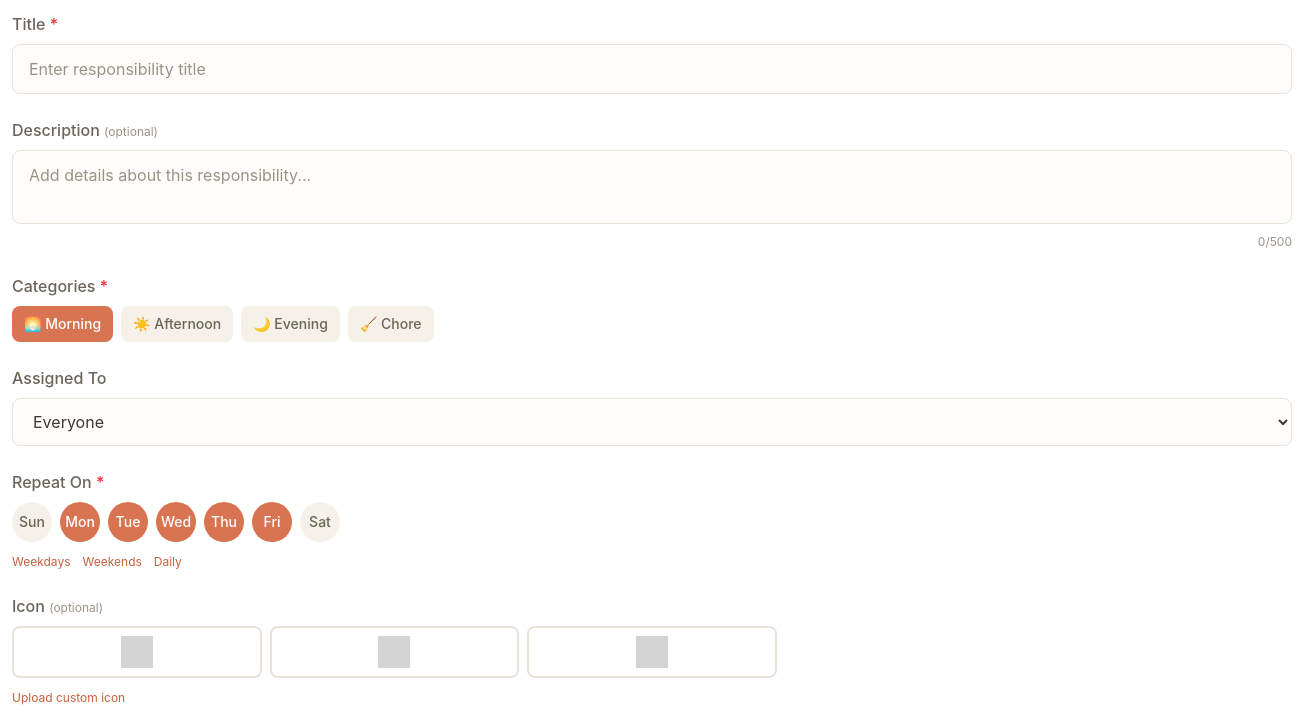
Test case: ResponsibilityForm › validation › shows error when no days selected
Click the button "Mon" at (80, 522), box [60,502,100,542]
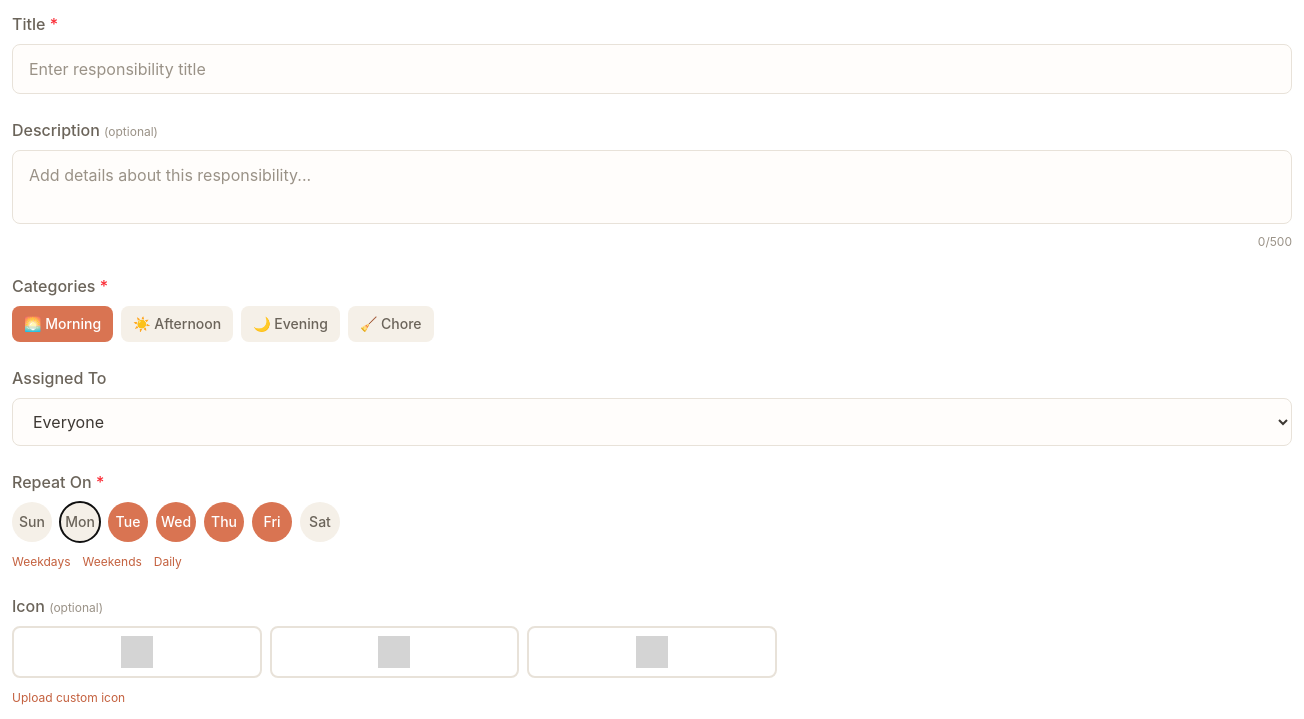
Click the button "Tue" at (128, 522), box [108,502,148,542]
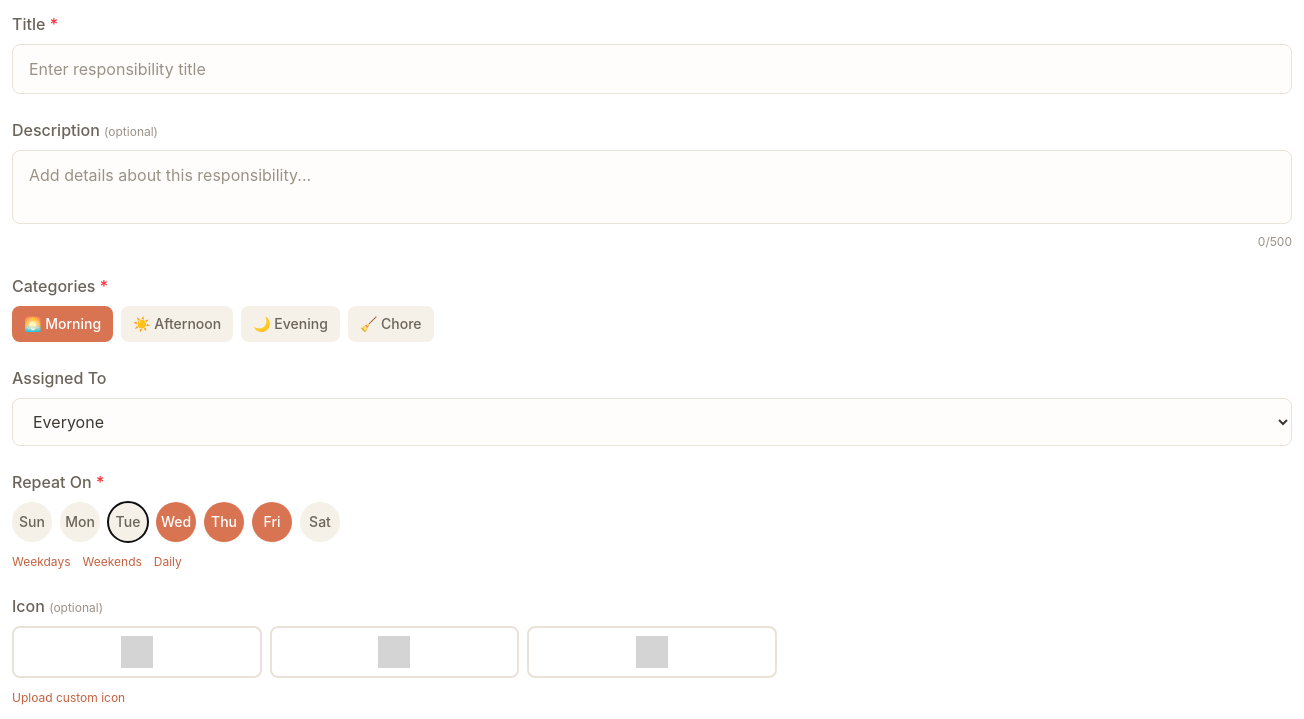
Click the button "Wed" at (176, 522), box [156,502,196,542]
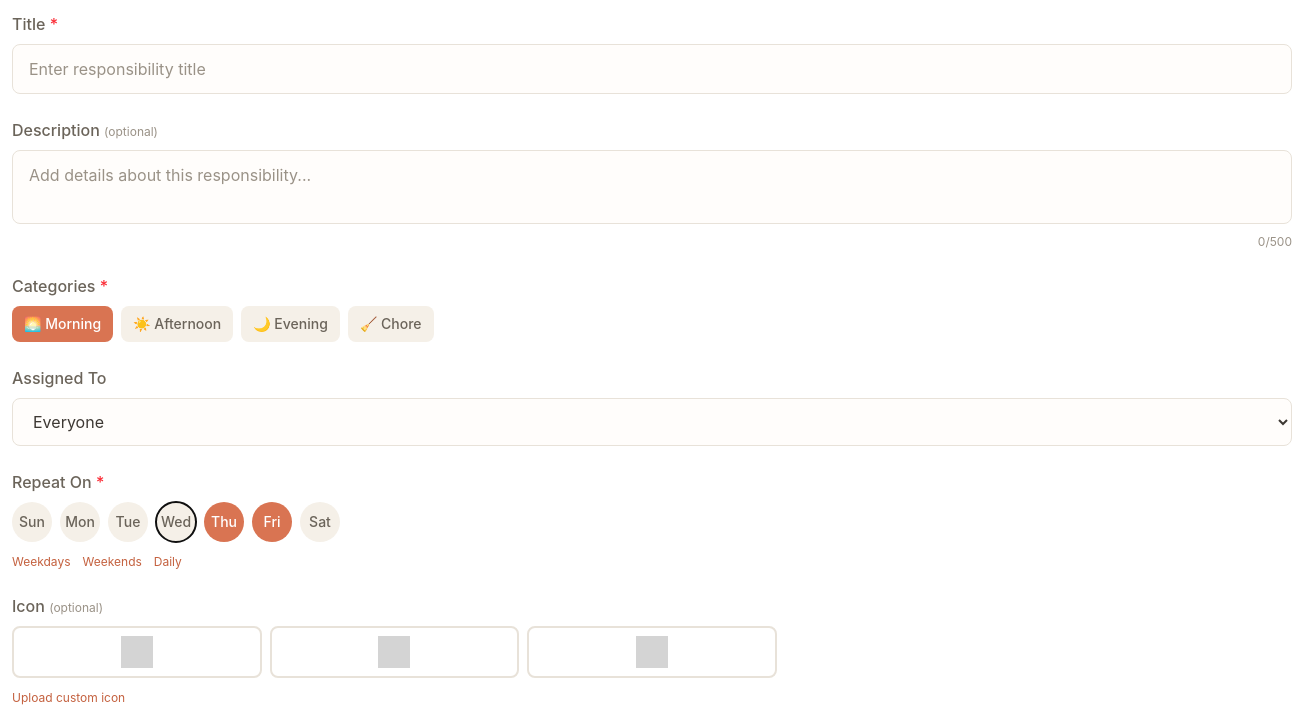
Click the button "Thu" at (224, 522), box [204,502,244,542]
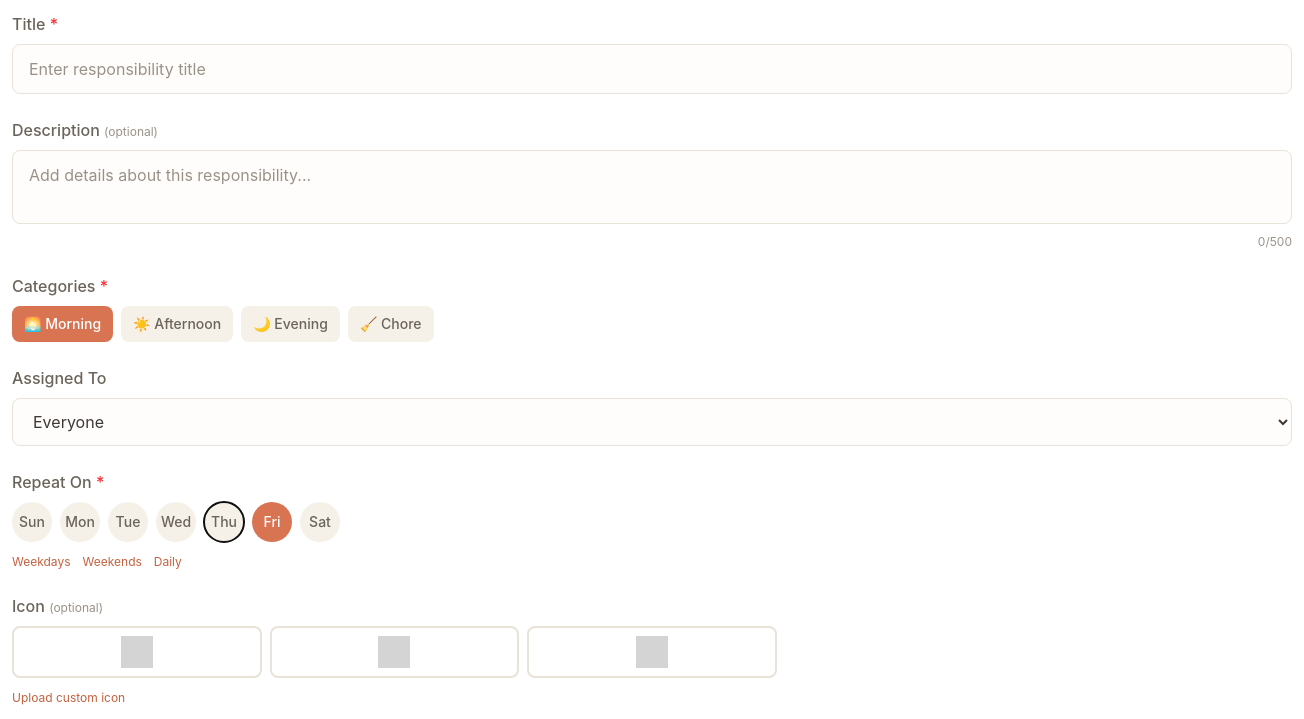
Click the button "Fri" at (272, 522), box [252,502,292,542]
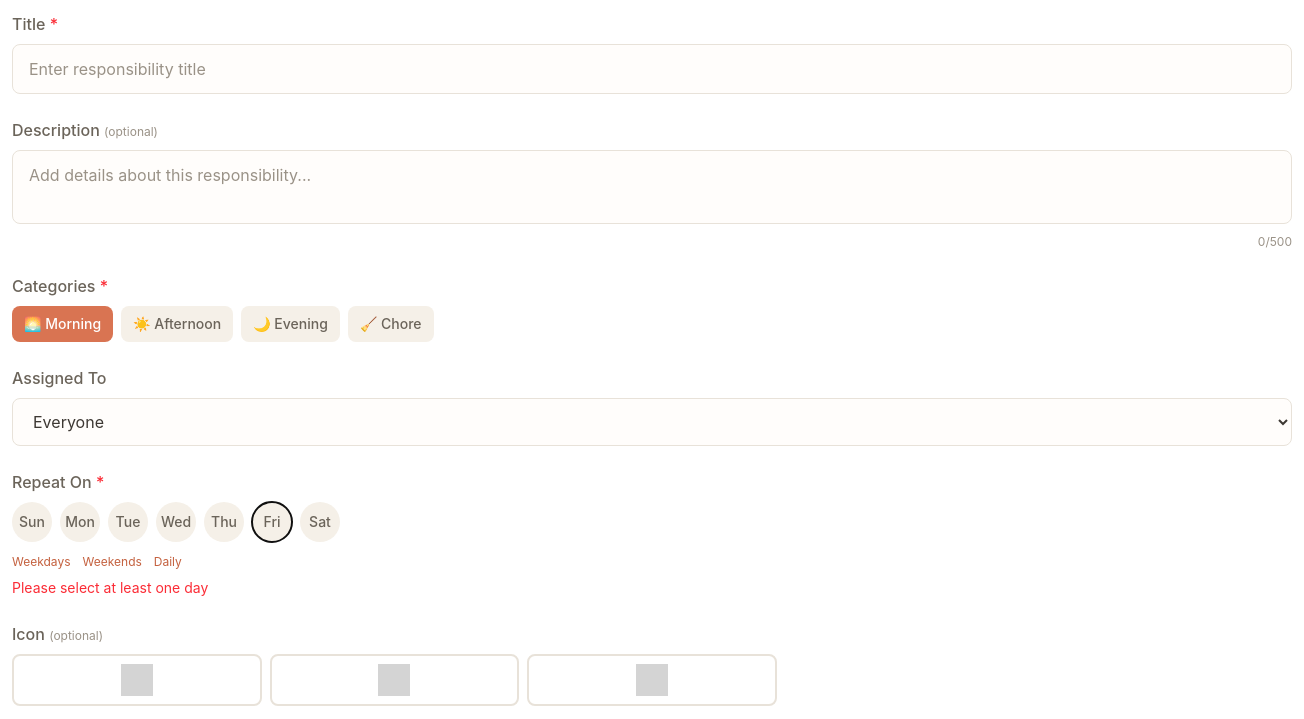
Result: the text "Please select at least one day" is shown at [12,579,208,596]
